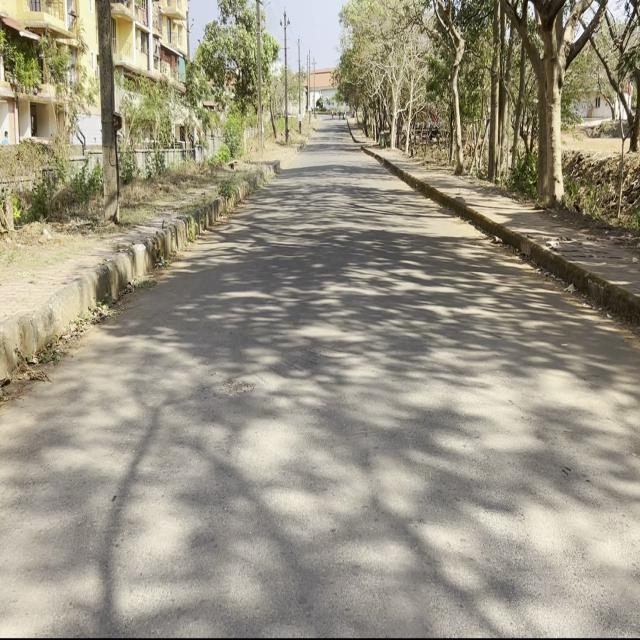Road: (4, 116, 635, 635)
